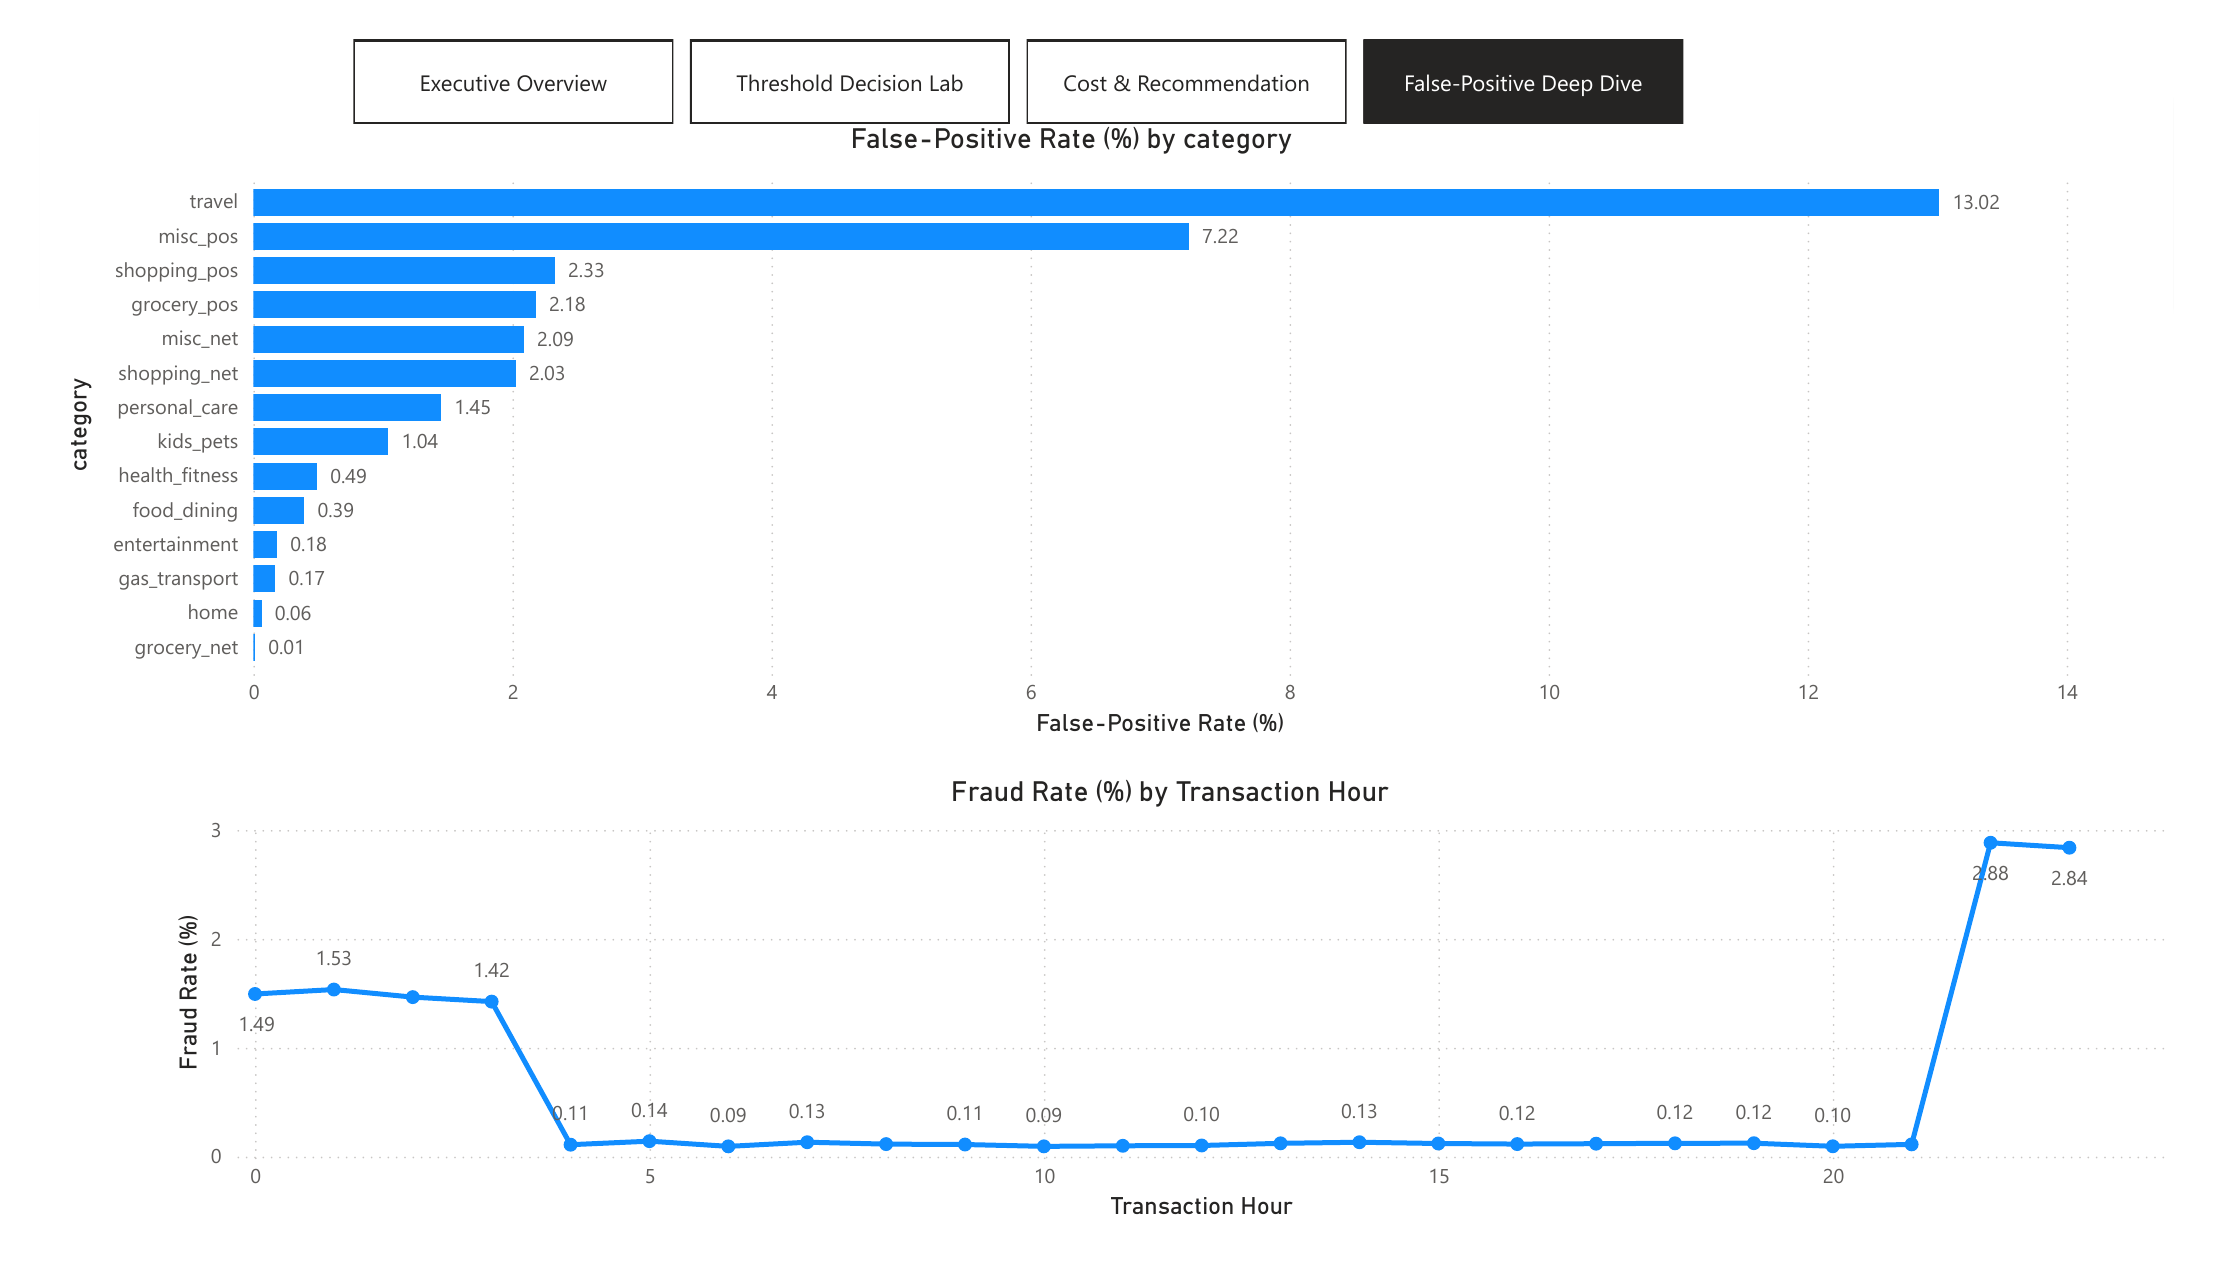

The page's visual inventory and layout, read from the dashboard file:
{"tool":"powerbi","page":{"name":"False-Positive Deep Dive","canvas":[1280,720],"ordinal":3},"visuals":[{"type":"clusteredBarChart","fields":{"Category":["false_positive_rate_by_category.category"],"Y":["Avg(false_positive_rate_by_category.false_positive_rate_percent)"]},"box":[9.9,49.3,1217.9,373.4],"z":0},{"type":"lineChart","title":"Fraud Rate (%) by Transaction Hour","fields":{"Category":["fraud_by_hour.transaction_hour"],"Y":["Sum(fraud_by_hour.fraud_rate_percent)"]},"box":[76.1,440.6,1203.6,272.2],"z":1},{"type":"pageNavigator","box":[187.7,0,800.5,49.6],"z":2}]}

Visuals, with their boxes in screenshot pixels (x1, y1, x2, y2), scaled from the page's 1280x720 canvas onto the 2214x1280 screenshot:
clusteredBarChart - false_positive_rate_by_category.category x Avg(false_positive_rate_by_category.false_positive_rate_percent): {"x1": 17, "y1": 88, "x2": 2124, "y2": 751}
"Fraud Rate (%) by Transaction Hour" lineChart: {"x1": 132, "y1": 783, "x2": 2213, "y2": 1267}
pageNavigator: {"x1": 325, "y1": 0, "x2": 1709, "y2": 88}
